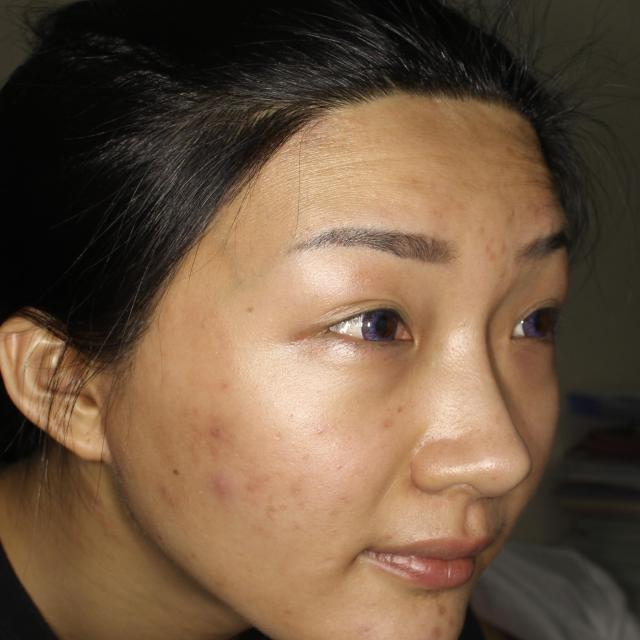pustule: (274, 476, 308, 505), (475, 229, 495, 265), (212, 465, 230, 501), (244, 466, 266, 495), (428, 594, 454, 615), (207, 418, 230, 440)
